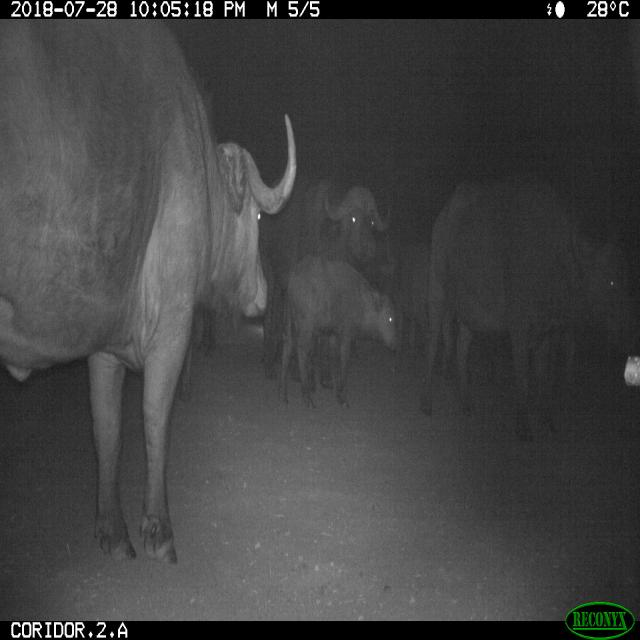buffalo: (0, 18, 300, 568)
